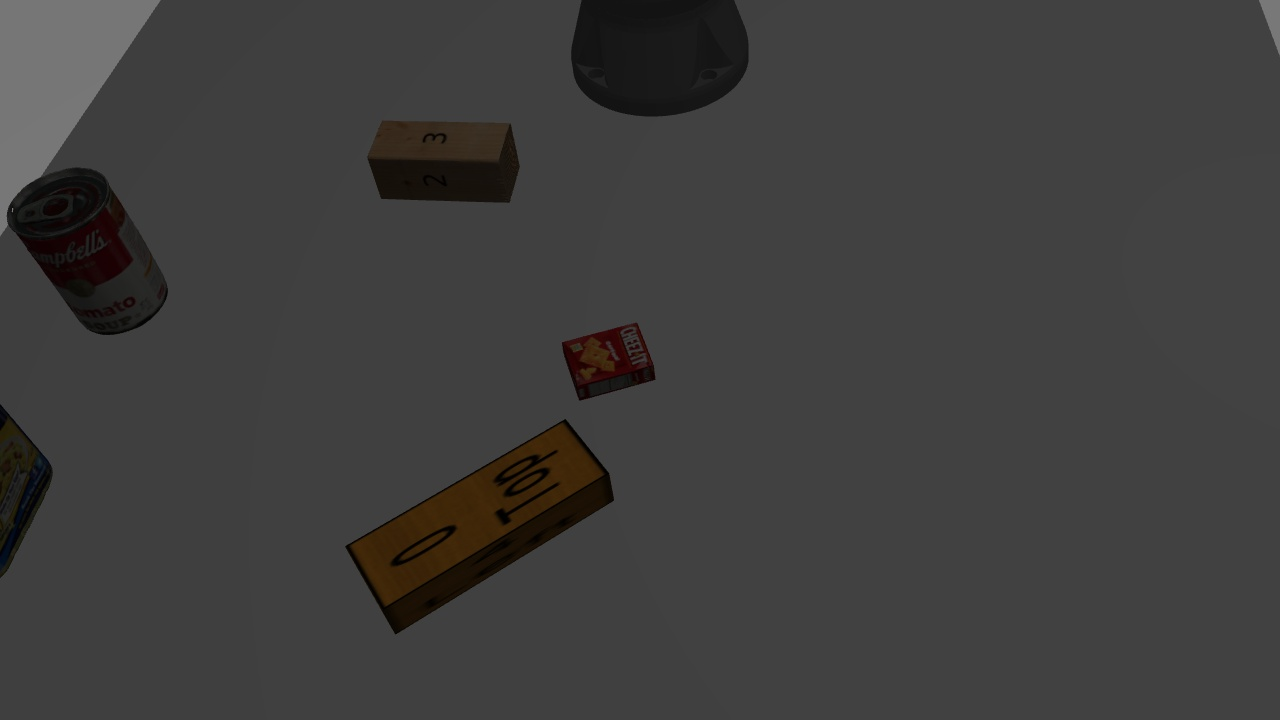cracker_box: (555, 320, 665, 400)
jenga: (334, 409, 632, 643)
potted_meat_can: (7, 378, 63, 582)
tomato_soup_can: (0, 161, 186, 340)
wood_block: (365, 112, 523, 208)
